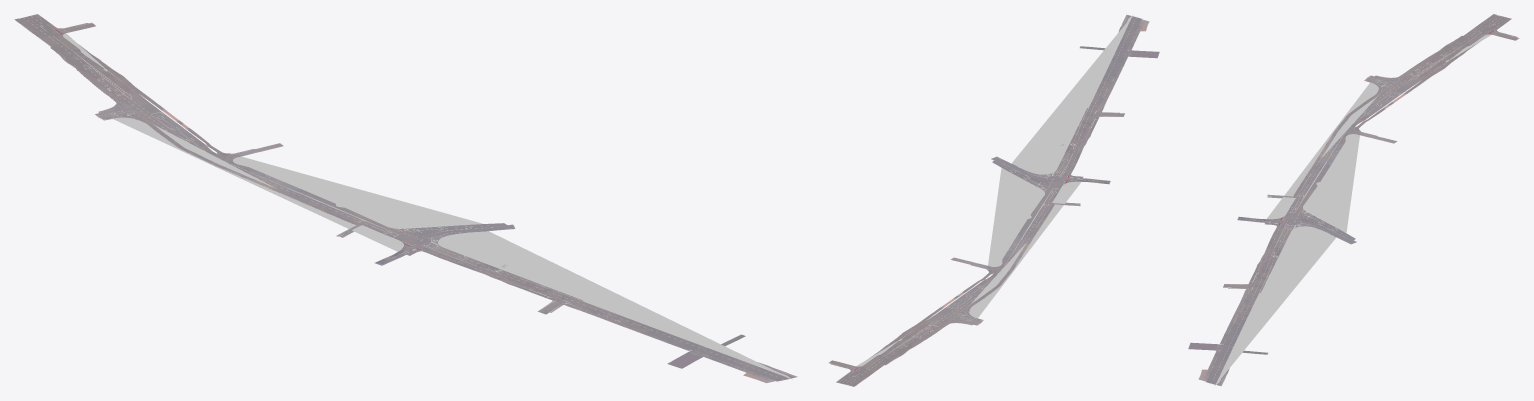
The model's file is road & footpath.fbx.
3 renders of one model, left to right at view 1: azimuth 30°, elevation 25°; view 2: azimuth 150°, elevation 25°; view 3: azimuth 330°, elevation 25°, orthographic. The views are drawn at different scales.
Parts seen in each view (by area): view 1: Road_lines, Road, footpath; view 2: Road_lines, Road, footpath; view 3: Road_lines, Road, footpath.
Boxes of the visible parts, box(x1,y1,x2,y2) form: Road_lines: box(23, 16, 792, 380); Road: box(19, 15, 790, 381); footpath: box(14, 14, 797, 383); Road_lines: box(843, 15, 1137, 384); Road: box(828, 16, 1159, 385); footpath: box(830, 14, 1149, 386); Road_lines: box(1211, 16, 1504, 385); Road: box(1188, 15, 1519, 384); footpath: box(1198, 14, 1516, 386).
Bounding box in the file's own units: 55.03 × 0.1153 × 206.
